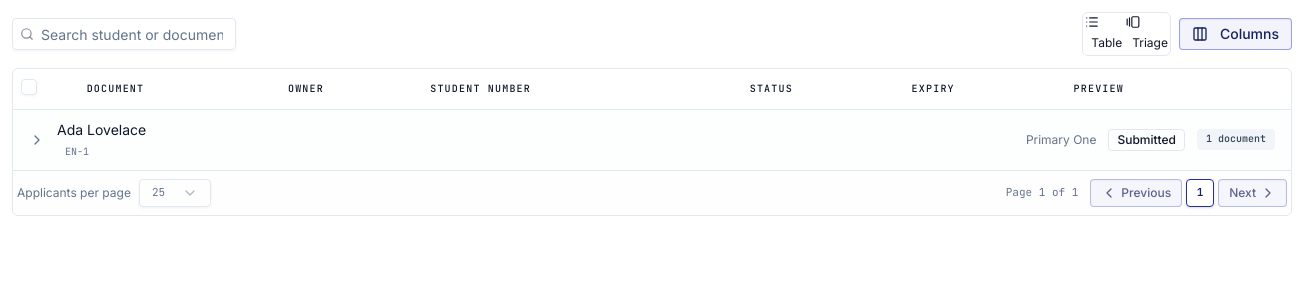
Scenario: ValidationQueue (Tier-1 optimistic) › optimistically removes the row, toasts success, and refreshes
Expected: the text "Ada Lovelace" is shown, top-left (57, 120), bottom-right (146, 138)
Click the button "Ada Lovelace": x=102, y=129 top-left (13, 110), bottom-right (1291, 170)
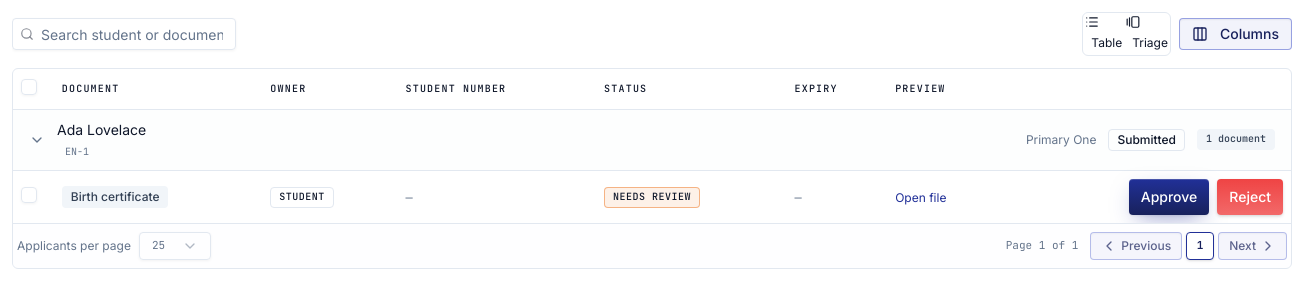
Click the button "Approve": x=1169, y=196 top-left (1129, 178), bottom-right (1209, 214)
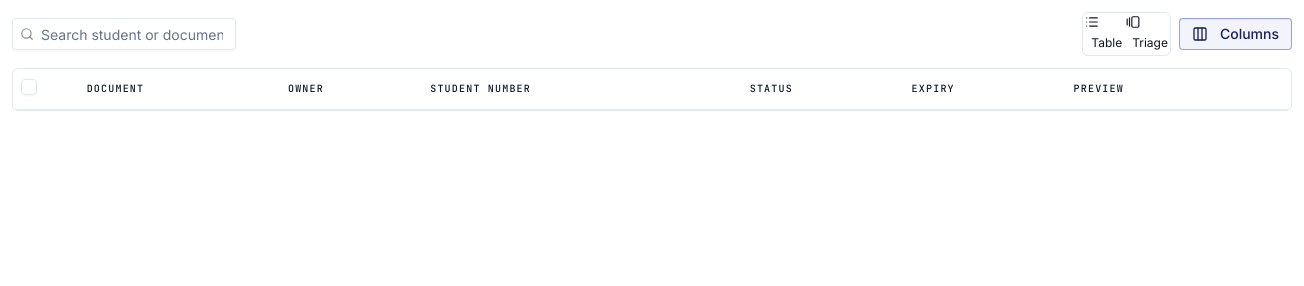
Result: the button "Ada Lovelace" is gone
